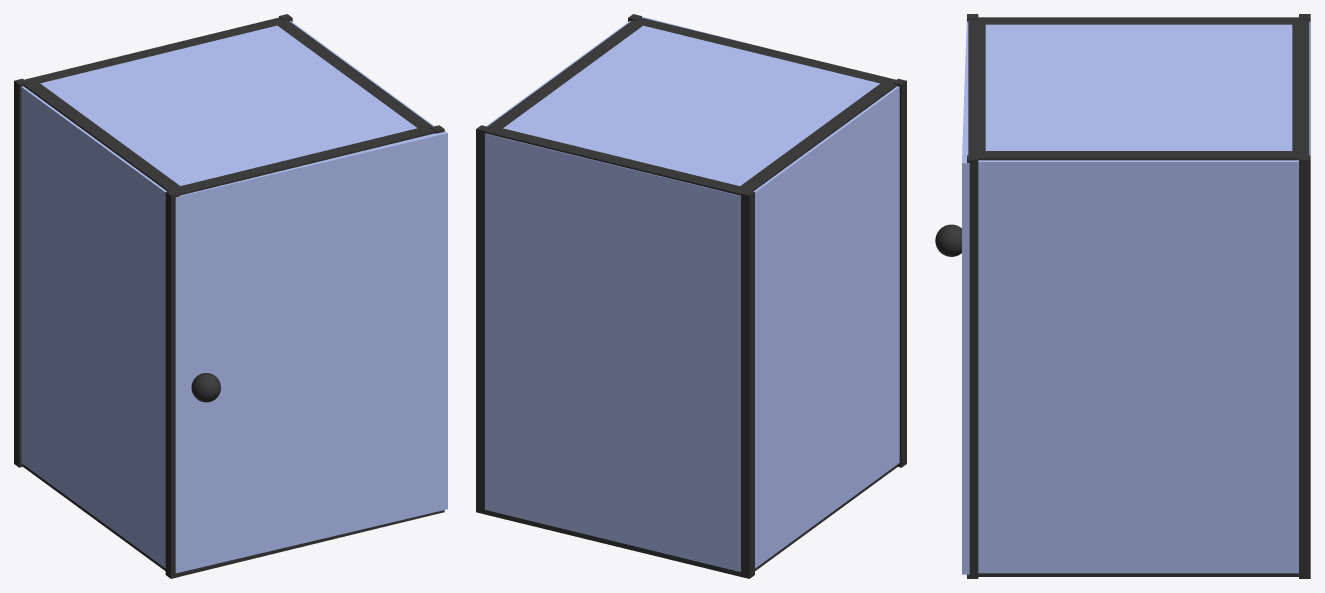
3 views of the same model, side by side, from view 1: azimuth 30°, elevation 25°; view 2: azimuth 150°, elevation 25°; view 3: azimuth 270°, elevation 25° (orthographic). The views are drawn at different scales.
Parts seen in each view (by area): view 1: pCube6, pCube10, pCube13.003, pCube3, pCube5, pCube13.002; view 2: pCube9, pCube10, pCube13.003, pCube5, pCube4, pCube3, pCube13.002; view 3: pCube11, pCube13.003, pCube4, pCube6, pCube1, pCube13.002.
Part boxes in pixels (box(x1,y1,x2,y2)): pCube6: box(175, 131, 447, 573); pCube10: box(21, 86, 166, 568); pCube13.003: box(23, 17, 435, 195); pCube3: box(165, 190, 179, 578); pCube5: box(14, 78, 27, 467); pCube13.002: box(23, 465, 435, 576); pCube9: box(485, 133, 740, 571); pCube10: box(753, 86, 899, 568); pCube13.003: box(485, 17, 897, 195); pCube5: box(741, 190, 754, 578); pCube4: box(476, 125, 489, 514); pCube3: box(893, 78, 906, 467); pCube13.002: box(485, 465, 897, 576); pCube11: box(978, 160, 1298, 573); pCube13.003: box(968, 17, 1309, 160); pCube4: box(1299, 155, 1310, 578); pCube6: box(935, 19, 969, 574); pCube1: box(967, 155, 978, 578); pCube13.002: box(978, 573, 1298, 576).
Size of the model in its own units: 142 by 190 by 154.
